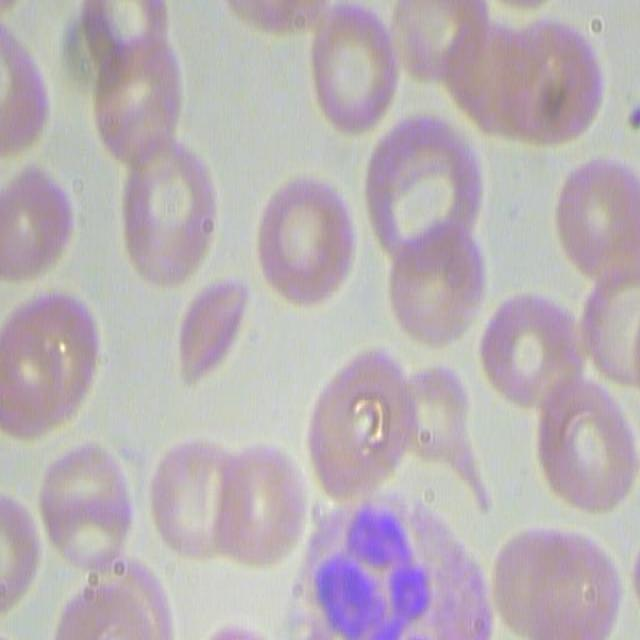RBC: (447, 0, 609, 147), (361, 112, 486, 295), (305, 345, 415, 504), (488, 518, 624, 638), (117, 132, 220, 285), (247, 168, 352, 311), (530, 374, 638, 513), (0, 285, 95, 443), (305, 0, 407, 147), (35, 438, 135, 574), (82, 31, 189, 158), (147, 434, 245, 568), (214, 442, 304, 576), (388, 212, 483, 337), (402, 370, 496, 496), (478, 293, 574, 414), (55, 556, 183, 640), (555, 158, 640, 276), (573, 255, 640, 394), (0, 170, 75, 287), (381, 1, 478, 85), (0, 11, 48, 163), (175, 283, 246, 385), (79, 0, 177, 66), (0, 491, 36, 617)
WBC: (314, 504, 483, 629)
